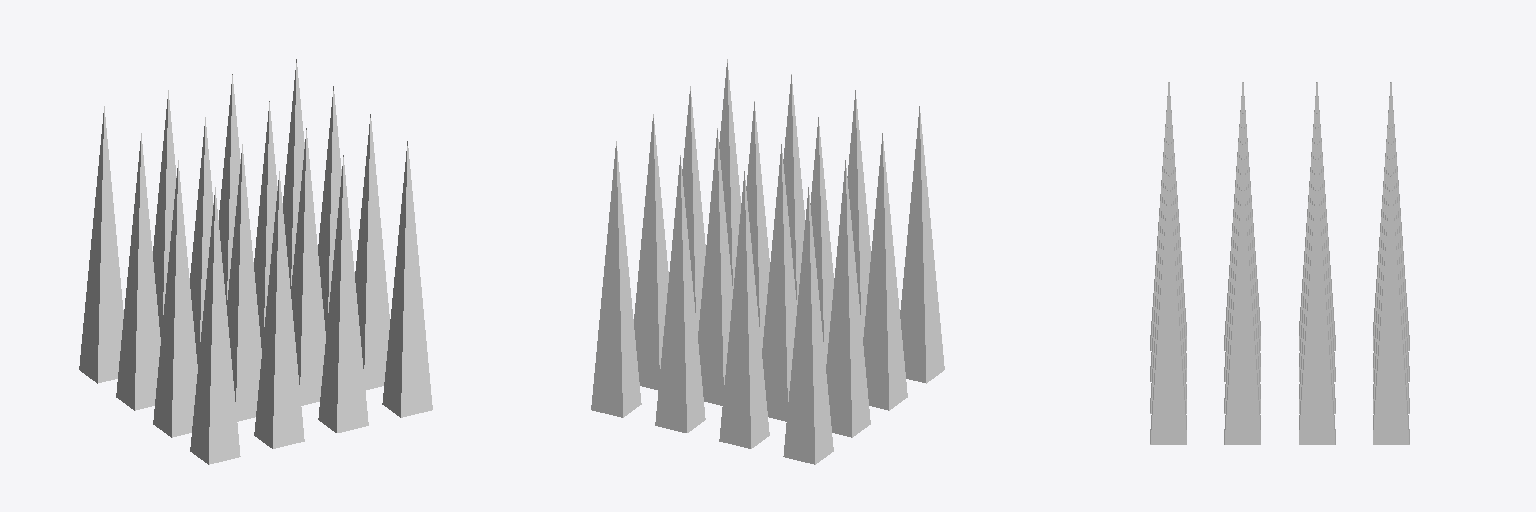
The model's file is spikes.obj.
3 renders of one model, left to right at view 1: azimuth 30°, elevation 25°; view 2: azimuth 150°, elevation 25°; view 3: azimuth 270°, elevation 25°, orthographic.
Visible parts, largest first — view 1: spikes; view 2: spikes; view 3: spikes.
Part boxes in pixels (x1,y1,x2,y2): spikes: (79,59,432,464); spikes: (591,59,944,464); spikes: (1150,82,1409,444).
Size of the model in its own units: 0.875 by 1 by 0.875.